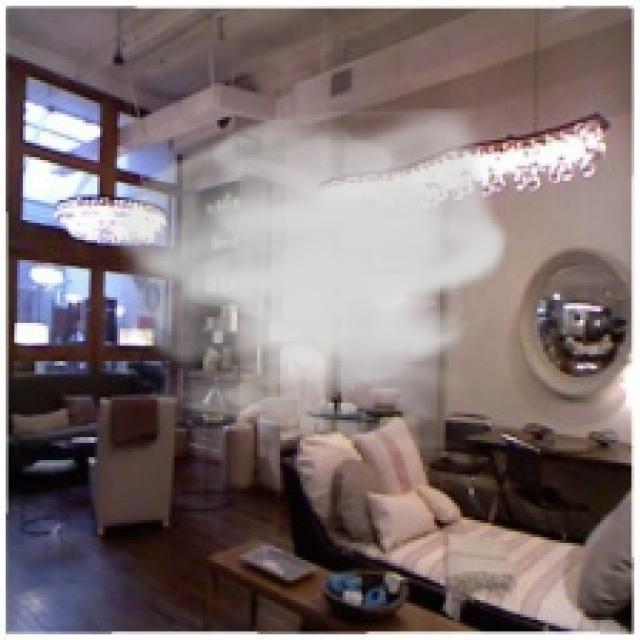smoke: (97, 97, 512, 457)
